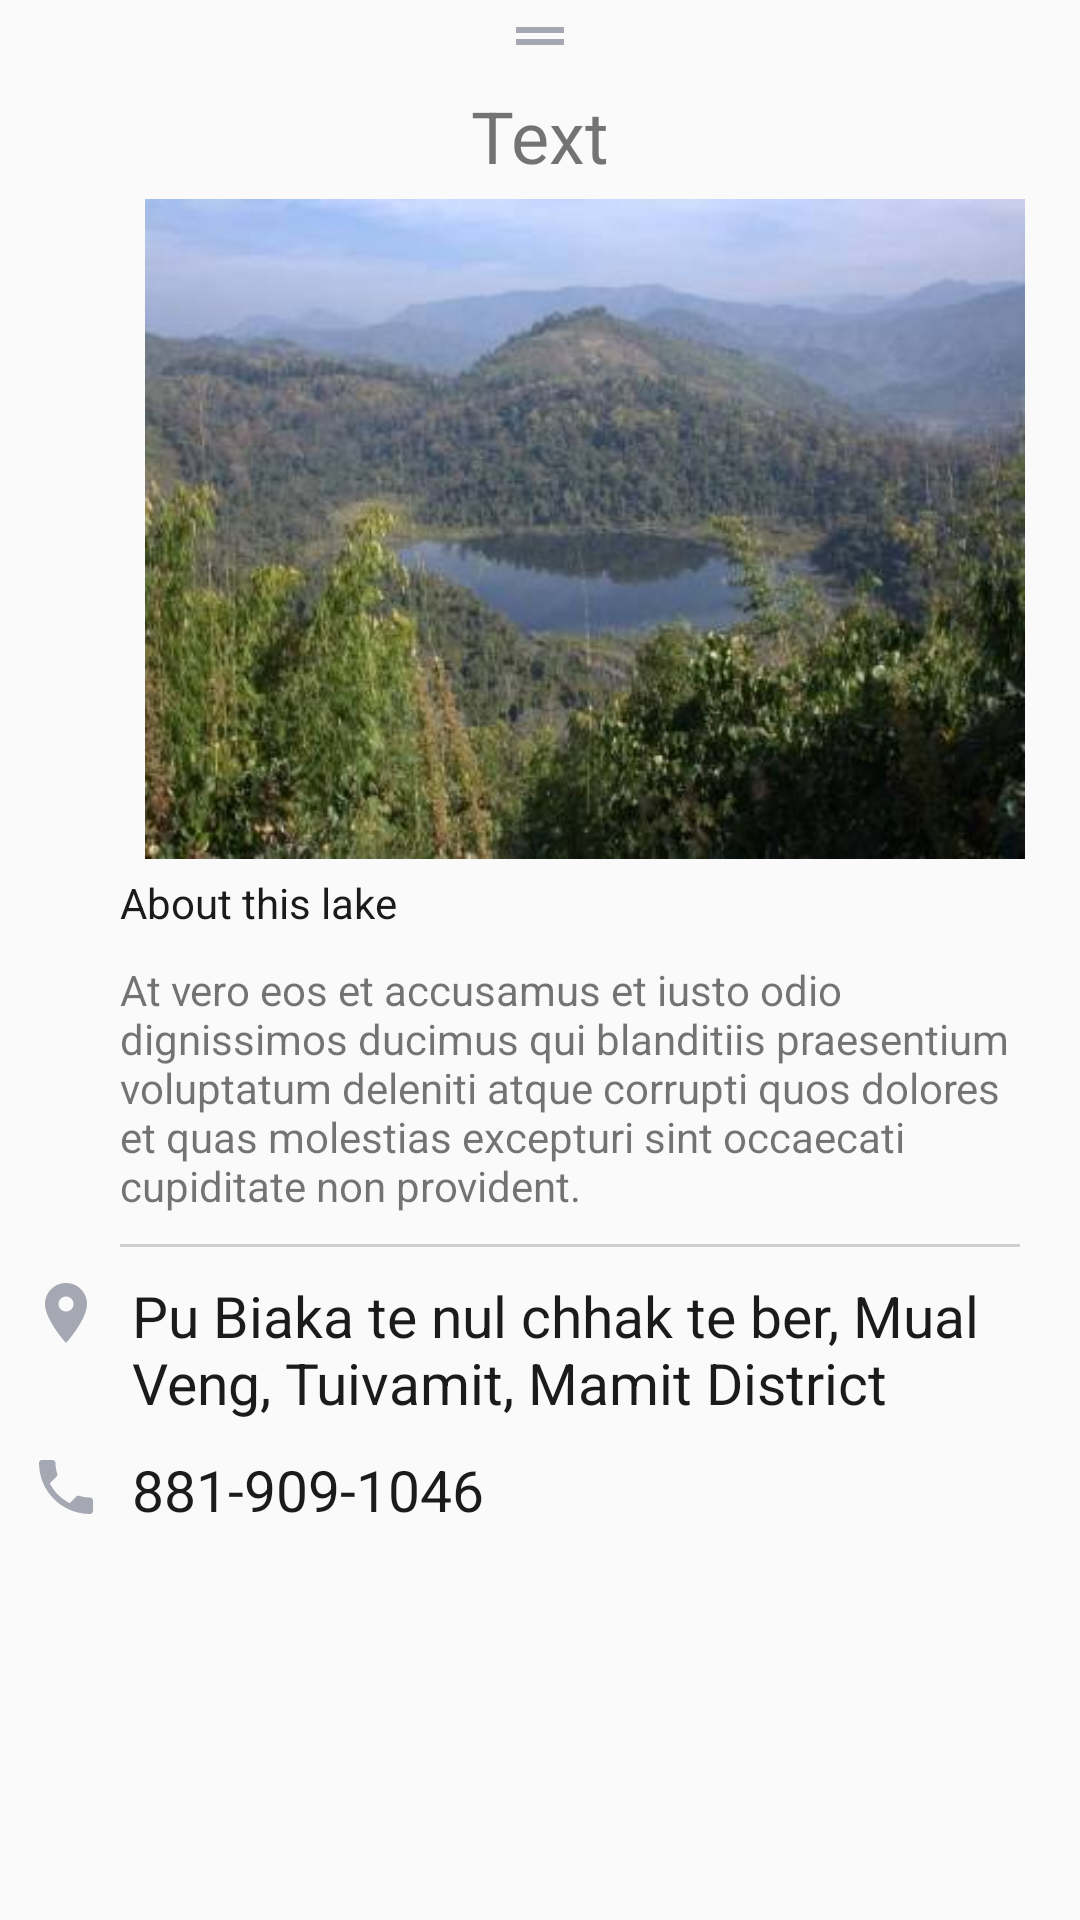

Icon click points for this 1080 × 1920 phone screenshot, format point (x, y):
drag handle: point (540, 36)
local phone: point (66, 1487)
location on: point (66, 1313)
